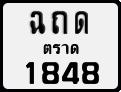letters: (40, 60, 60, 84), (81, 61, 101, 85), (28, 10, 47, 35), (61, 60, 80, 85), (51, 10, 69, 35), (72, 10, 89, 35), (25, 59, 36, 85)
province: (42, 42, 80, 56)
